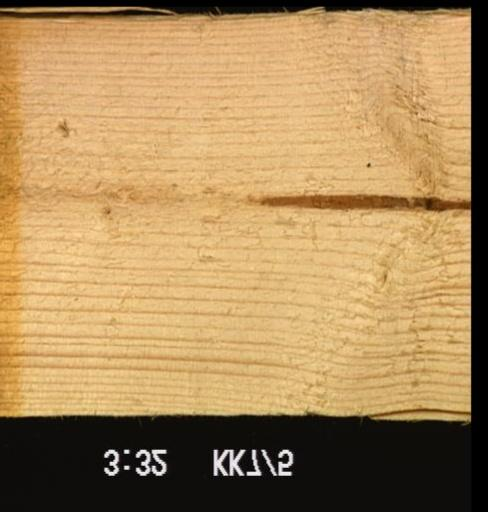small_knot: (356, 151, 380, 176), (102, 202, 117, 221)
split: (365, 403, 469, 416)
